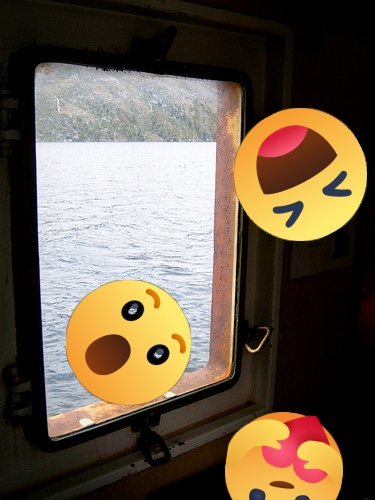care: (225, 412, 343, 500)
haha: (234, 108, 367, 241)
wow: (66, 280, 191, 405)
